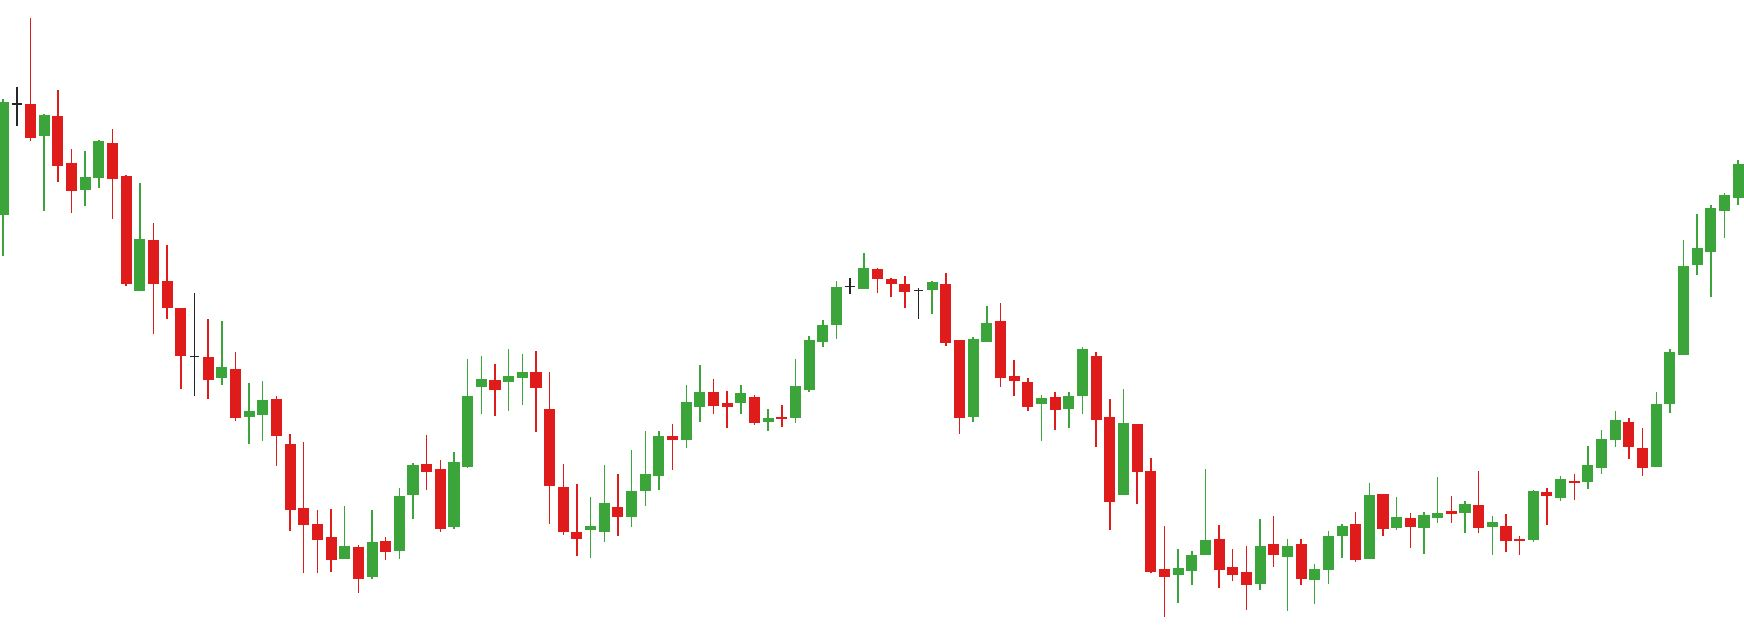buy: (432, 428, 612, 563)
